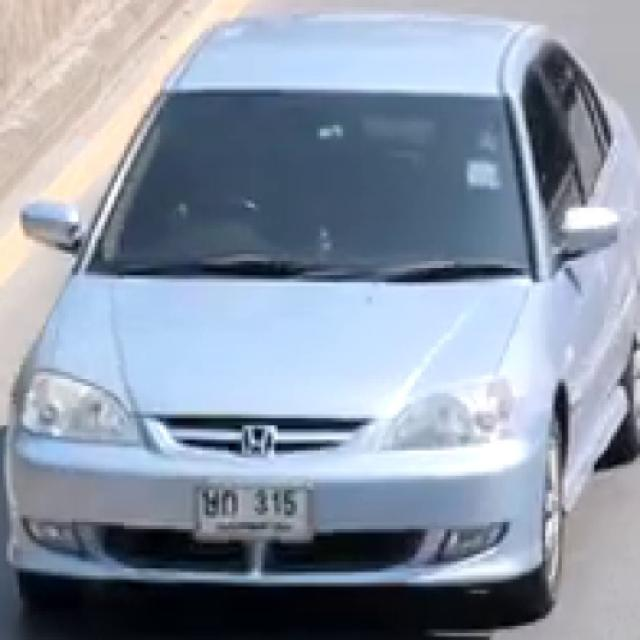plate: (195, 488, 308, 537)
